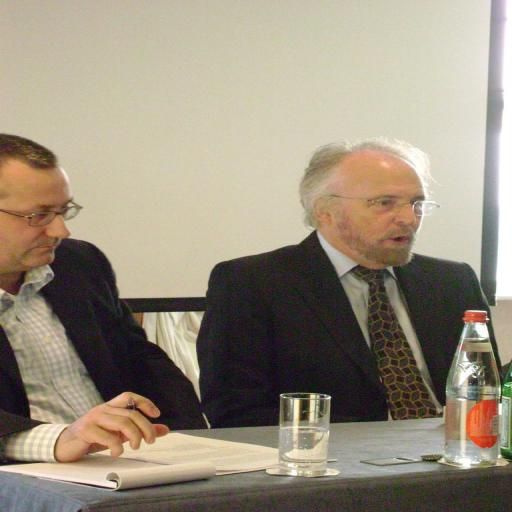Person: (228, 122, 438, 462), (55, 115, 231, 455)
no_gloves: (90, 397, 186, 455)
no_goggle: (299, 200, 398, 220), (59, 206, 130, 226)
no_helmet: (285, 129, 397, 184), (62, 129, 119, 185)
none: (231, 246, 421, 394), (61, 268, 186, 424)
